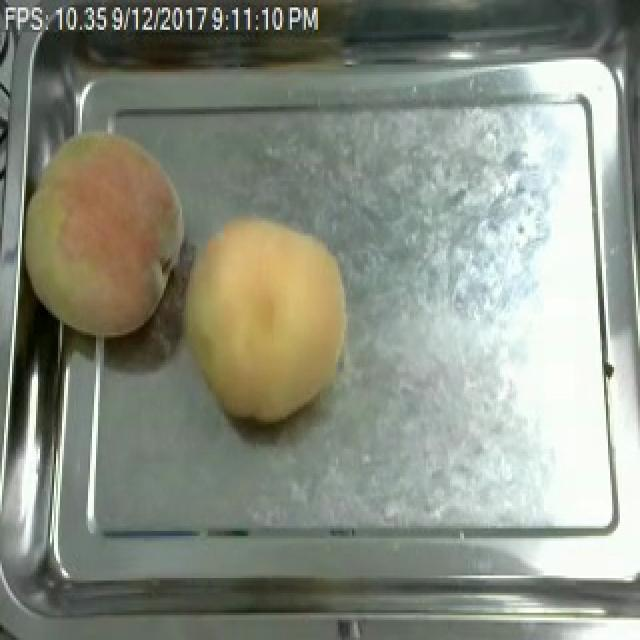Fruit: (174, 204, 356, 429), (18, 116, 192, 344)
